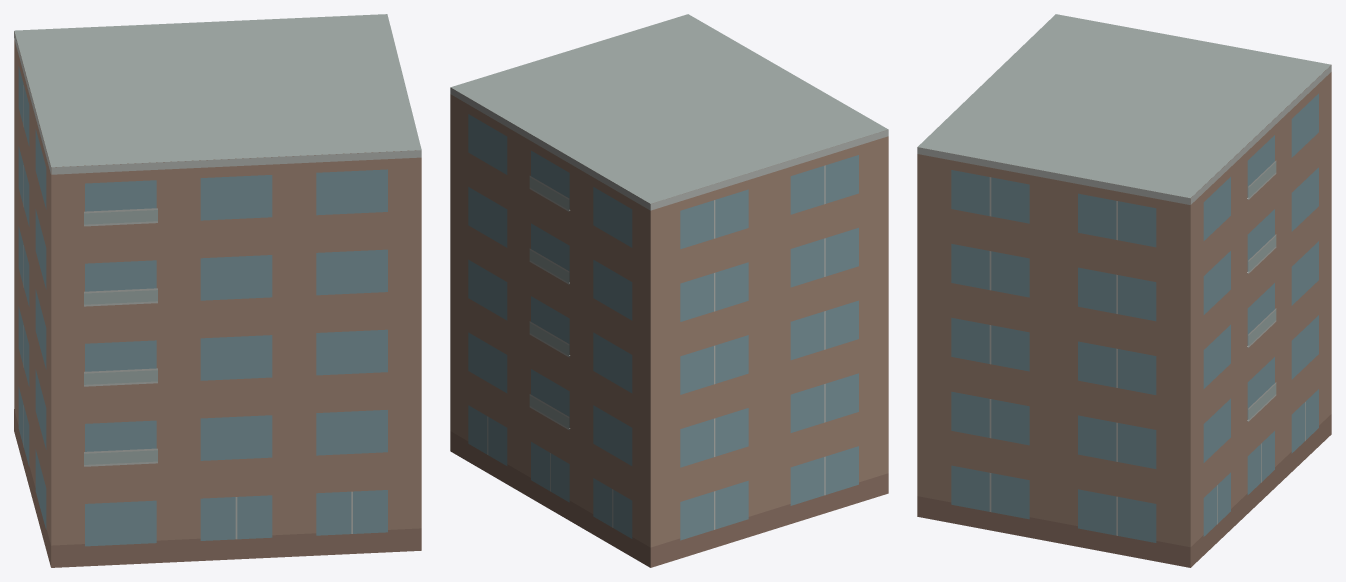
Rendered from survey-upis-32531917.glb.
The picture shows the model from 3 angles, left to right: view 1: azimuth 30°, elevation 25°; view 2: azimuth 150°, elevation 25°; view 3: azimuth 270°, elevation 25°; orthographic projection. The views are drawn at different scales.
Parts seen in each view (by area): view 1: survey-upis-32531917.tmp; view 2: survey-upis-32531917.tmp; view 3: survey-upis-32531917.tmp.
Part boxes in pixels (x1=…): survey-upis-32531917.tmp: x1=14, y1=14, x2=421, y2=567; survey-upis-32531917.tmp: x1=450, y1=14, x2=888, y2=567; survey-upis-32531917.tmp: x1=917, y1=14, x2=1331, y2=567.
Size of the model in its own units: 14.02 by 13.1 by 13.32.
